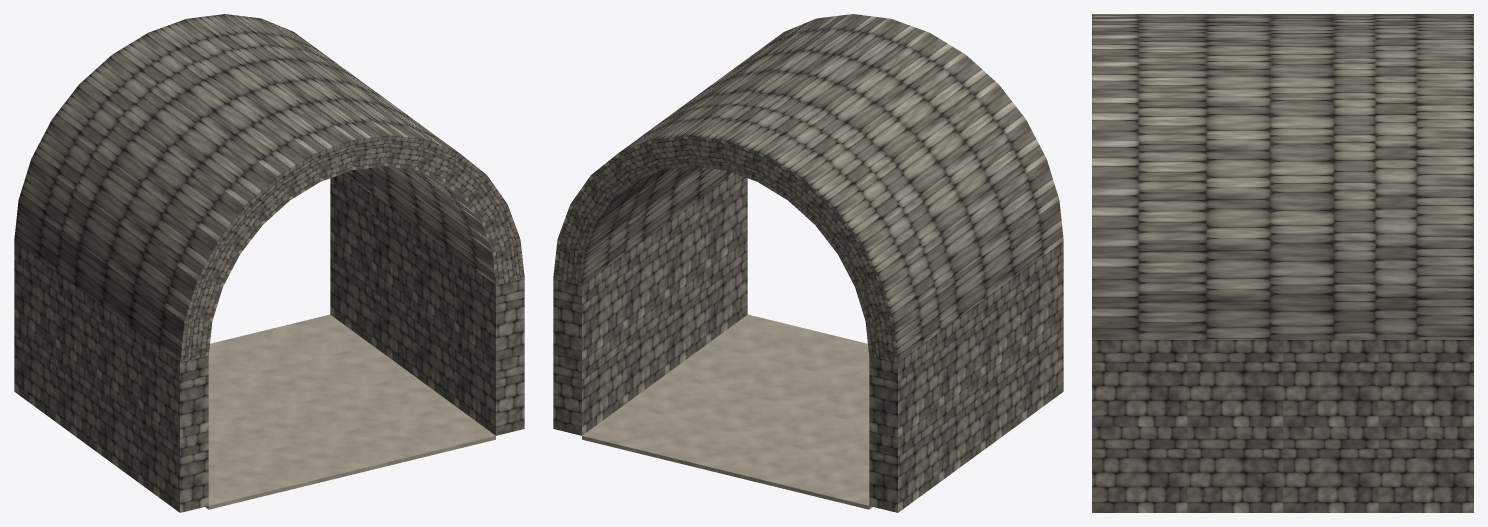
The model's file is Dungeon_Vault_1.gltf.
3 renders of one model, left to right at view 1: azimuth 30°, elevation 25°; view 2: azimuth 150°, elevation 25°; view 3: azimuth 270°, elevation 25°, orthographic. The views are drawn at different scales.
Visible parts, largest first — view 1: Dungeon_Vault_1; view 2: Dungeon_Vault_1; view 3: Dungeon_Vault_1.
Part boxes in pixels (x1=…): Dungeon_Vault_1: x1=14, y1=14, x2=524, y2=512; Dungeon_Vault_1: x1=553, y1=14, x2=1063, y2=512; Dungeon_Vault_1: x1=1092, y1=14, x2=1473, y2=512.
Size of the model in its own units: 4.8 by 4.45 by 4.
3 materials, 3 textured.
